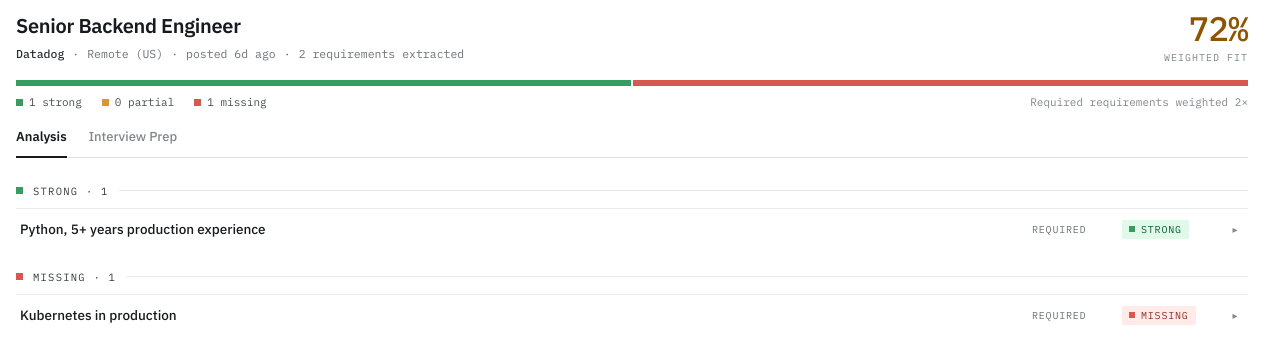
Test case: AnalysisPane › says generation is in flight rather than showing not-analysed-yet copy
The width and height of the screenshot is (1266, 342).
Click the tab "Interview Prep". click: (133, 142)
box: [89, 127, 177, 158]
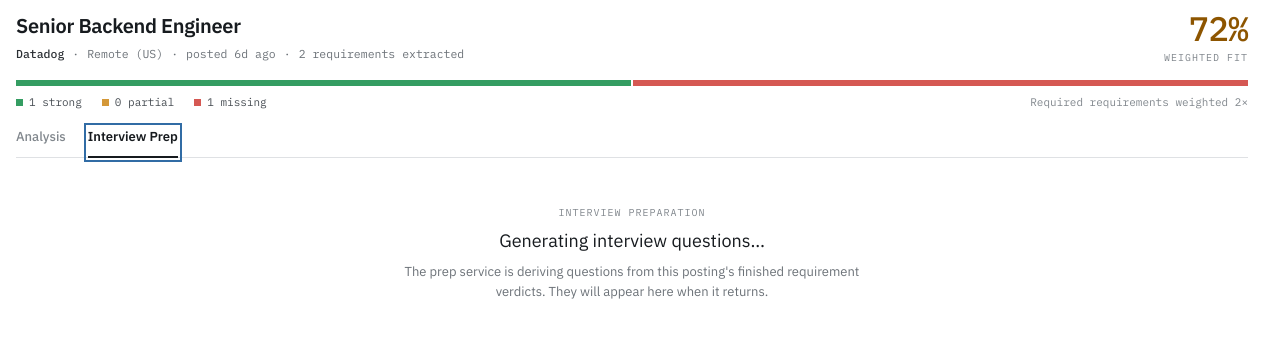
Check: the heading "Generating interview questions…" is shown, box [499, 228, 765, 252]
